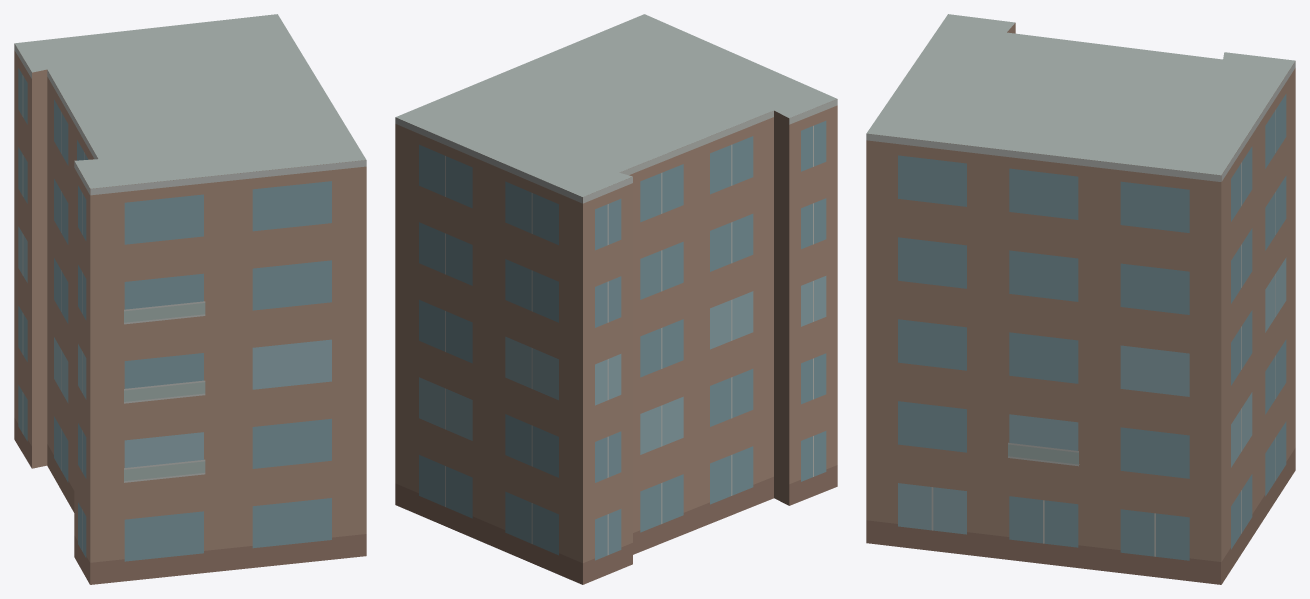
Rendered from survey-upis-32975296.glb.
3 renders of one model, left to right at view 1: azimuth 30°, elevation 25°; view 2: azimuth 150°, elevation 25°; view 3: azimuth 270°, elevation 25°, orthographic. The views are drawn at different scales.
Parts seen in each view (by area): view 1: survey-upis-32975296.tmp; view 2: survey-upis-32975296.tmp; view 3: survey-upis-32975296.tmp.
Boxes of the visible parts, x1,y1,x2,y2 form: survey-upis-32975296.tmp: [14, 14, 366, 584]; survey-upis-32975296.tmp: [395, 14, 837, 584]; survey-upis-32975296.tmp: [866, 14, 1295, 584].
Size of the model in its own units: 12.34 by 14.6 by 13.88.
